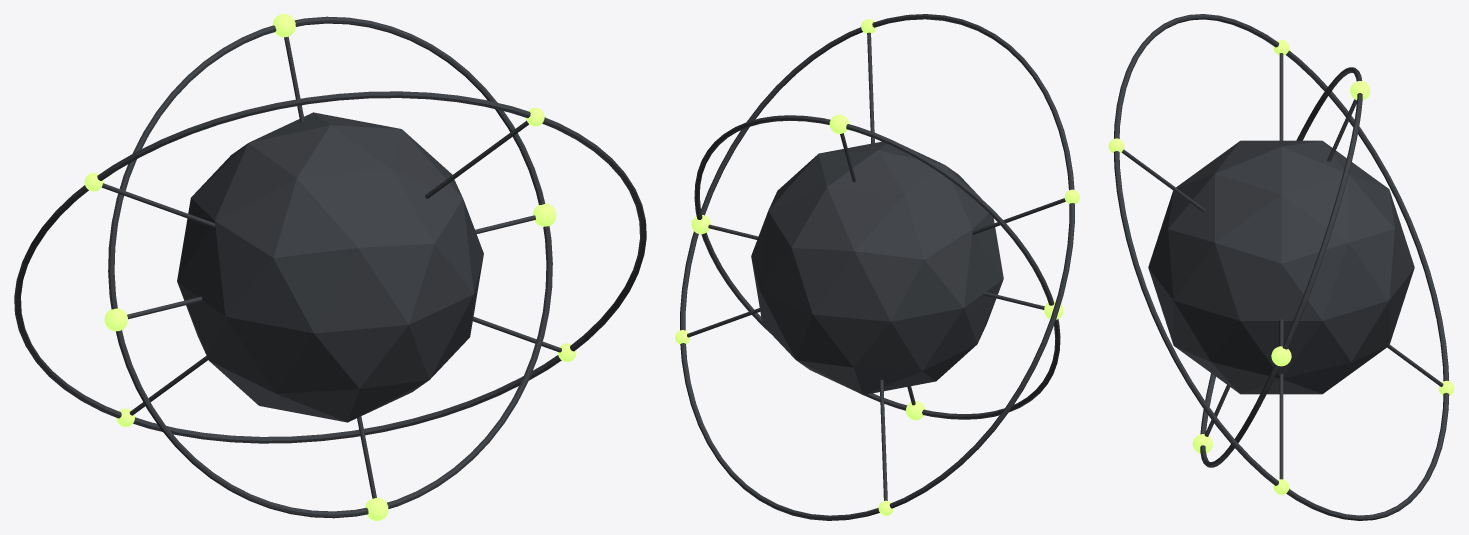
File: nodesphere.glb
3 views of the same model, side by side, from view 1: azimuth 30°, elevation 25°; view 2: azimuth 150°, elevation 25°; view 3: azimuth 270°, elevation 25° (orthographic). The views are drawn at different scales.
Visible parts, largest first — view 1: NS_Shell, NSB_Torus, NSA_Torus; view 2: NS_Shell, NSB_Torus, NSA_Torus, NSB_B1, NSB_B3; view 3: NS_Shell, NSB_Torus, NSA_Torus, NSB_B0, NSB_B3, NSB_B2.
Part boxes in pixels (x1,y1,x2,y2): NS_Shell: [177, 112, 483, 422]; NSB_Torus: [14, 91, 646, 443]; NSA_Torus: [108, 16, 552, 518]; NS_Shell: [751, 141, 1003, 394]; NSB_Torus: [680, 14, 1074, 520]; NSA_Torus: [694, 115, 1060, 419]; NSB_B1: [879, 379, 887, 500]; NSB_B3: [867, 32, 874, 143]; NS_Shell: [1148, 140, 1414, 394]; NSB_Torus: [1114, 14, 1449, 520]; NSA_Torus: [1200, 67, 1362, 467]; NSB_B0: [1279, 374, 1283, 479]; NSB_B3: [1121, 149, 1205, 212]; NSB_B2: [1279, 53, 1283, 140].
Bounding box in the file's own units: 3.56 × 3.17 × 2.39.
